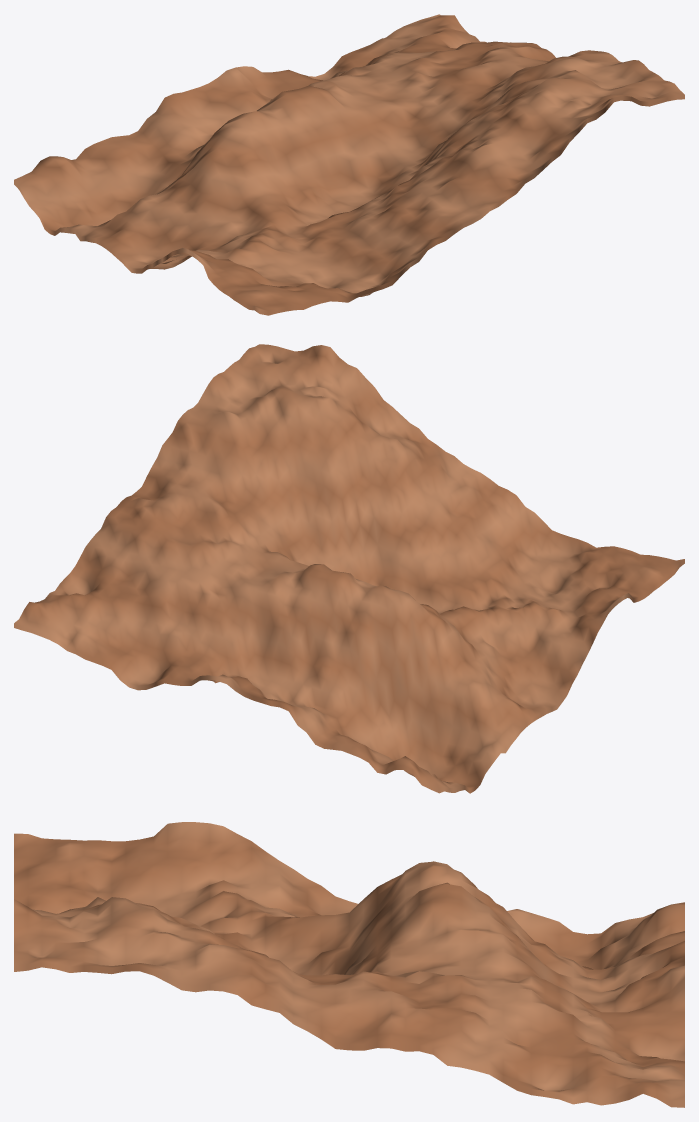
File: terrain-049.glb
3 views of the same model, one above another, from view 1: azimuth 30°, elevation 25°; view 2: azimuth 150°, elevation 25°; view 3: azimuth 270°, elevation 25° (orthographic). The views are drawn at different scales.
Visible parts, largest first — view 1: terrain-049; view 2: terrain-049; view 3: terrain-049.
Boxes of the visible parts, x1,y1,x2,y2 form: terrain-049: (14,14,684,315); terrain-049: (14,344,684,793); terrain-049: (14,822,684,1107).
Bounding box in the file's own units: 384 × 177 × 384.
